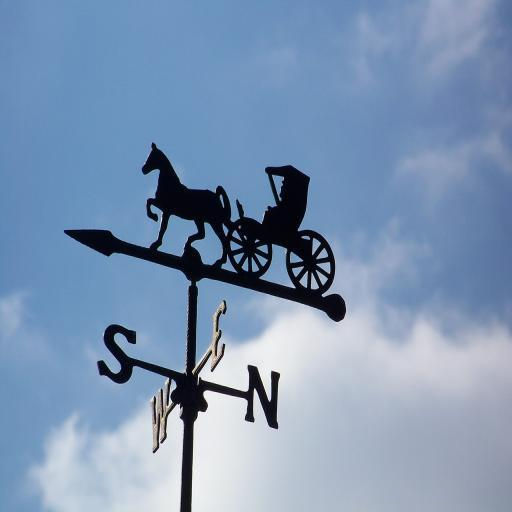horse: (138, 142, 234, 266)
